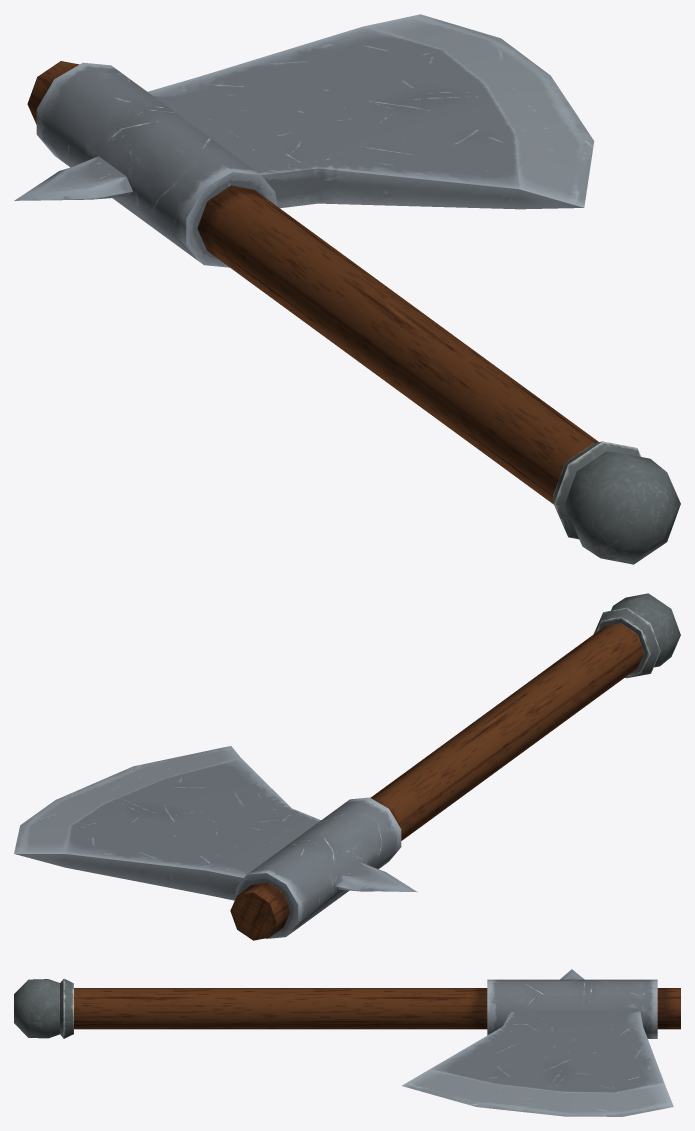
The model's file is axe_one_handed.glb.
3 renders of one model, top to bottom at view 1: azimuth 30°, elevation 25°; view 2: azimuth 150°, elevation 25°; view 3: azimuth 270°, elevation 25°, orthographic. The views are drawn at different scales.
Parts seen in each view (by area): view 1: axe_one_handed_Material.004_0; view 2: axe_one_handed_Material.004_0; view 3: axe_one_handed_Material.004_0.
Part boxes in pixels (bbox=[...]): axe_one_handed_Material.004_0: bbox=[14, 14, 680, 564]; axe_one_handed_Material.004_0: bbox=[14, 593, 680, 940]; axe_one_handed_Material.004_0: bbox=[14, 969, 680, 1116].
Bounding box in the file's own units: 3.57 × 0.6565 × 6.8.
1 material, 1 textured.
